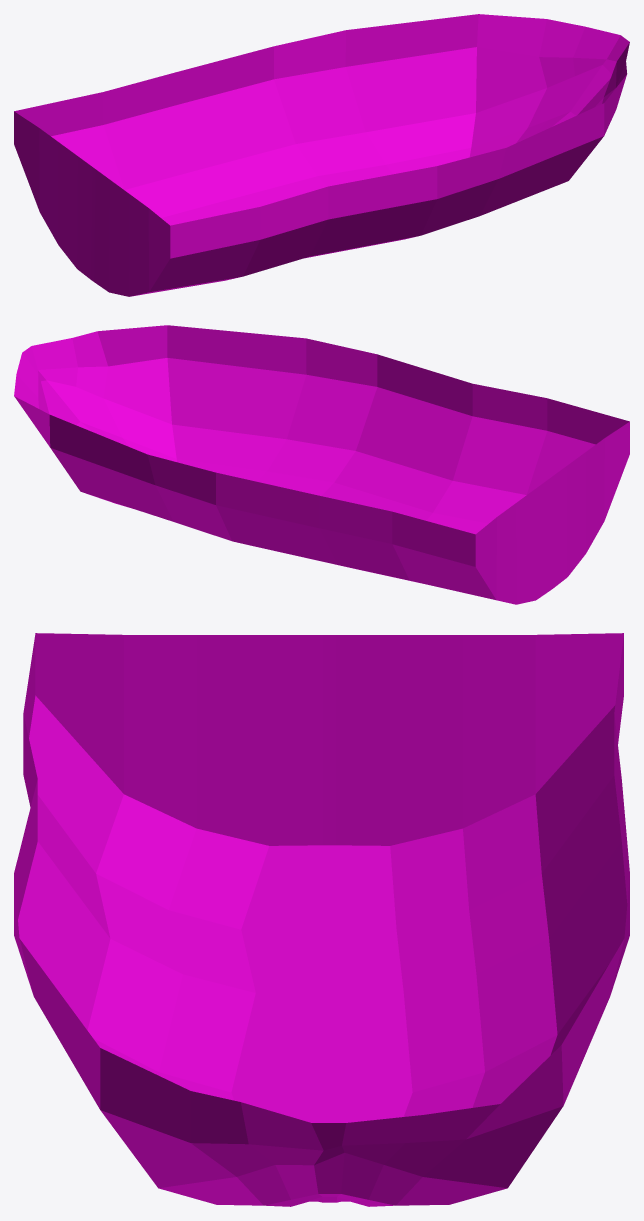
The model's file is RowboatWaterRemoval.fbx.
The picture shows the model from 3 angles, top to bottom: view 1: azimuth 30°, elevation 25°; view 2: azimuth 150°, elevation 25°; view 3: azimuth 270°, elevation 25°; orthographic projection. The views are drawn at different scales.
Visible parts, largest first — view 1: Cube.001; view 2: Cube.001; view 3: Cube.001.
Boxes of the visible parts, left/top/right/bottom form: Cube.001: left=14, top=14, right=629, bottom=296; Cube.001: left=14, top=325, right=629, bottom=604; Cube.001: left=14, top=633, right=629, bottom=1206.
Bounding box in the file's own units: 1182 × 238 × 628.
